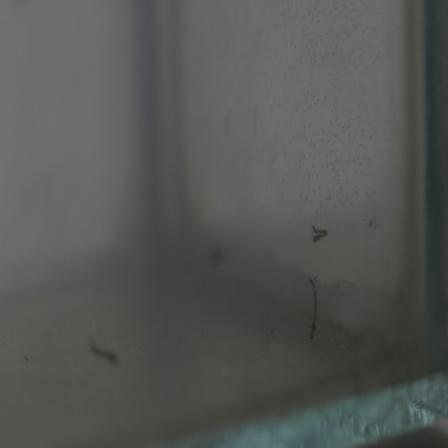Jentik-Nyamuk: (304, 272, 321, 345), (306, 221, 330, 247)
